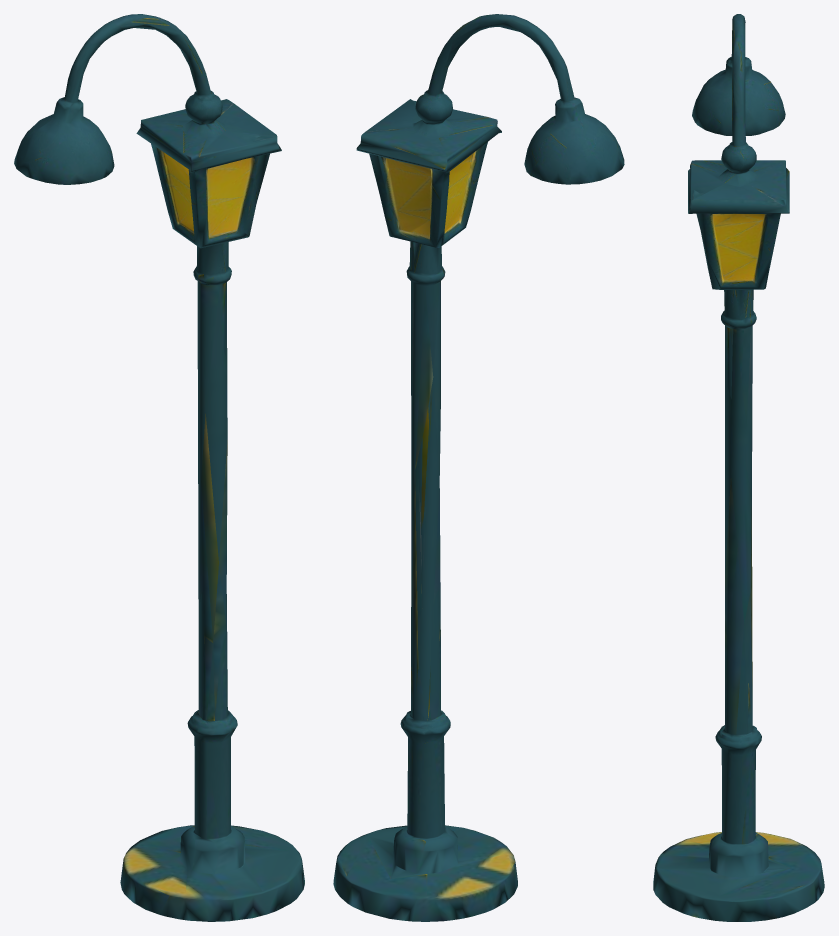
The model's file is street-lamp-512.glb.
3 views of the same model, side by side, from view 1: azimuth 30°, elevation 25°; view 2: azimuth 150°, elevation 25°; view 3: azimuth 270°, elevation 25° (orthographic). The views are drawn at different scales.
Size of the model in its own units: 0.6053 by 1.9 by 0.3569.
Materials: 1 (1 with a texture image).
